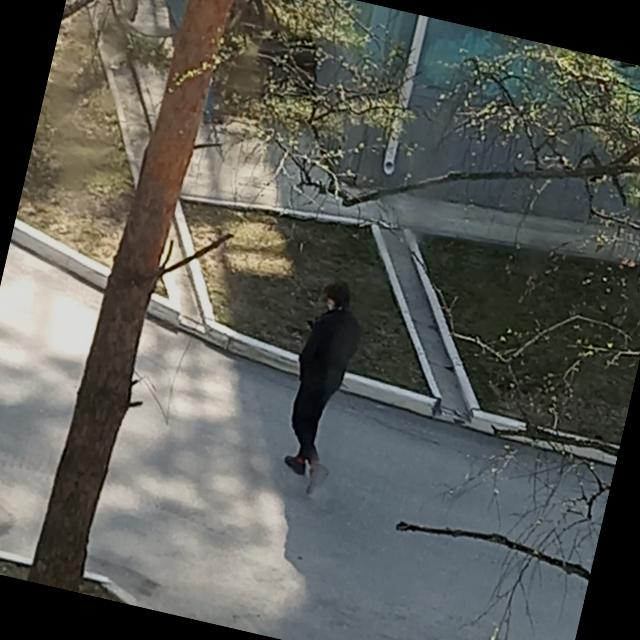person: (268, 275, 371, 497)
